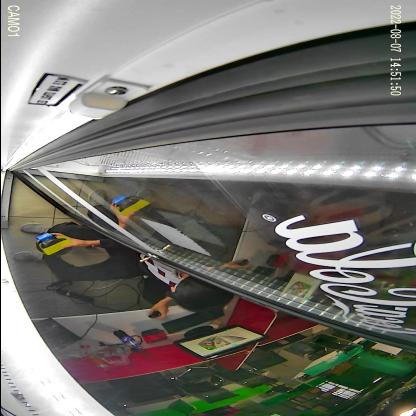blue: (34, 232, 56, 252)
yellow: (38, 237, 71, 256)
